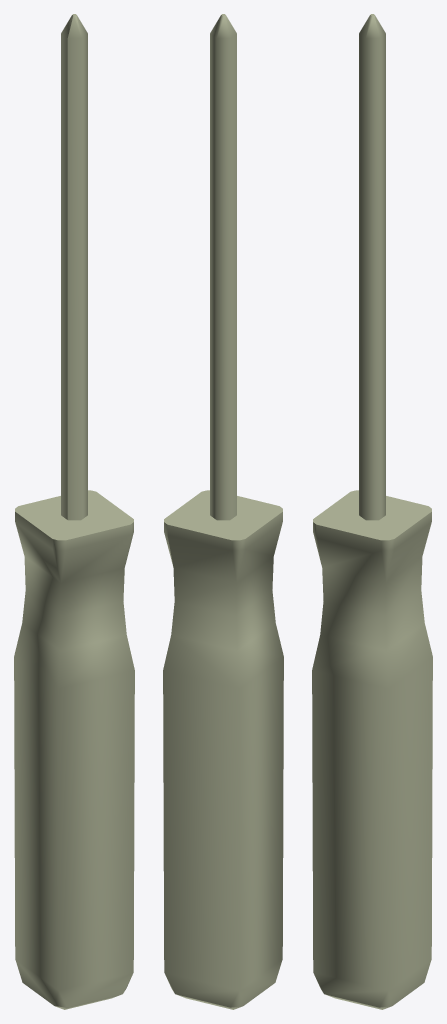
The model's file is SM_ScrewdriverSet_02c.FBX.
3 views of the same model, side by side, from view 1: azimuth 30°, elevation 25°; view 2: azimuth 150°, elevation 25°; view 3: azimuth 330°, elevation 25° (orthographic).
Visible parts, largest first — view 1: SM_ScrewdriverSet_02c_LOD0; view 2: SM_ScrewdriverSet_02c_LOD0; view 3: SM_ScrewdriverSet_02c_LOD0.
Boxes of the visible parts, x1,y1,x2,y2 form: SM_ScrewdriverSet_02c_LOD0: [14, 14, 134, 1009]; SM_ScrewdriverSet_02c_LOD0: [163, 14, 283, 1009]; SM_ScrewdriverSet_02c_LOD0: [312, 14, 432, 1009].
Size of what is drawn, in the model's own units: 1.69 by 19.42 by 1.69.
